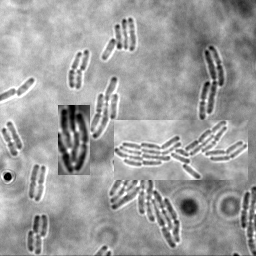Dividing: (67, 52, 81, 89), (1, 128, 18, 157), (34, 166, 47, 202), (28, 164, 39, 200), (239, 192, 249, 229)
Microcolony: (114, 120, 248, 180), (109, 158, 180, 249), (58, 105, 90, 175), (88, 76, 119, 139), (199, 45, 224, 120), (101, 18, 136, 61), (27, 214, 48, 255)
Rod: (5, 121, 23, 150), (16, 78, 34, 99), (79, 50, 89, 72), (73, 69, 82, 90)
